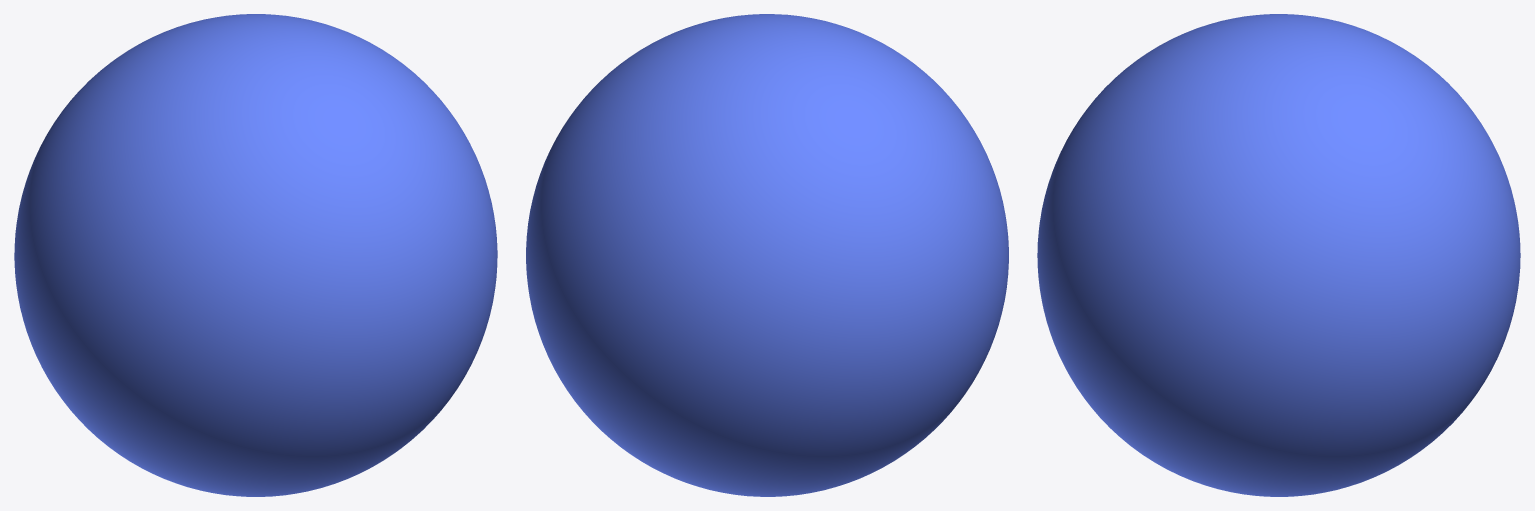
File: ball.gltf
The picture shows the model from 3 angles, left to right: view 1: azimuth 30°, elevation 25°; view 2: azimuth 150°, elevation 25°; view 3: azimuth 270°, elevation 25°; orthographic projection.
Parts seen in each view (by area): view 1: Object_2; view 2: Object_2; view 3: Object_2.
Part boxes in pixels (bbox=[...]): Object_2: bbox=[14, 14, 497, 496]; Object_2: bbox=[526, 14, 1008, 496]; Object_2: bbox=[1037, 14, 1520, 496].
Bounding box in the file's own units: 0.952 × 0.952 × 0.9524.
